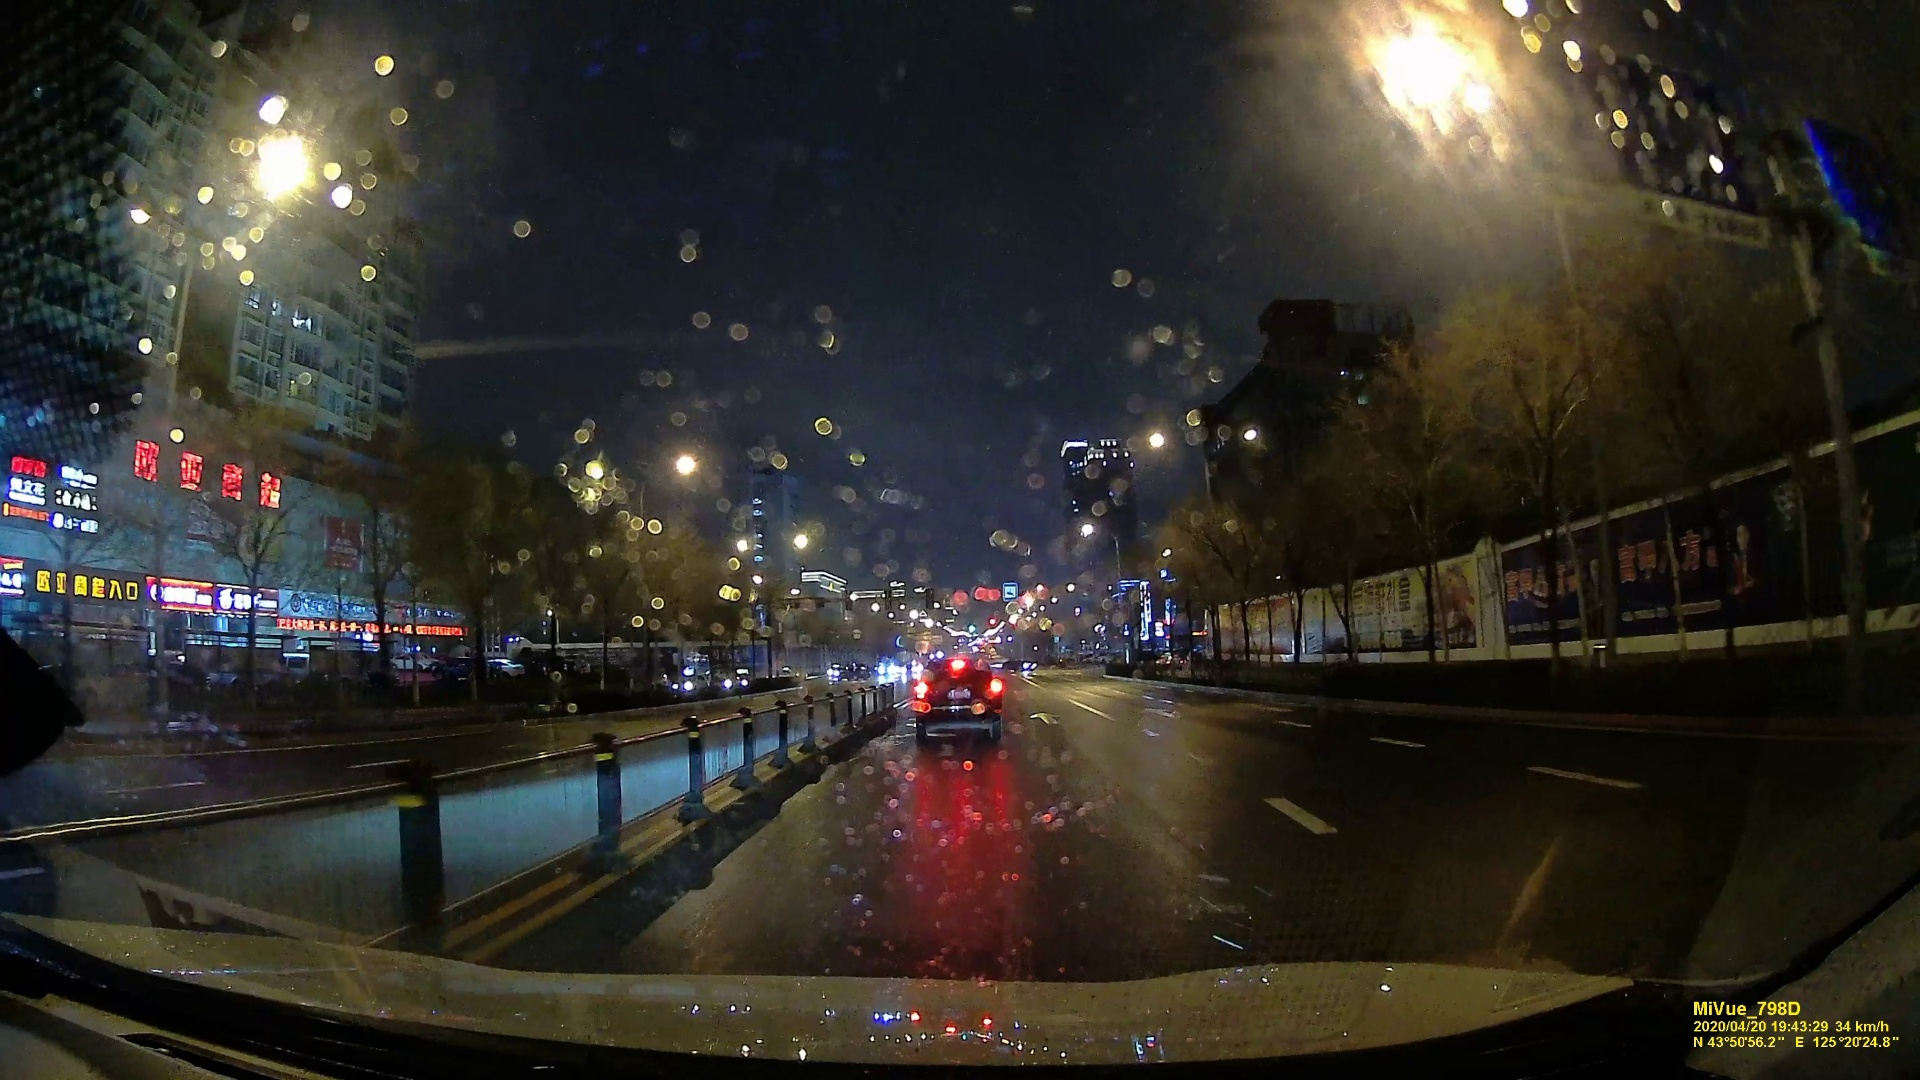vehicle: (913, 657, 1002, 738), (673, 673, 708, 695)
